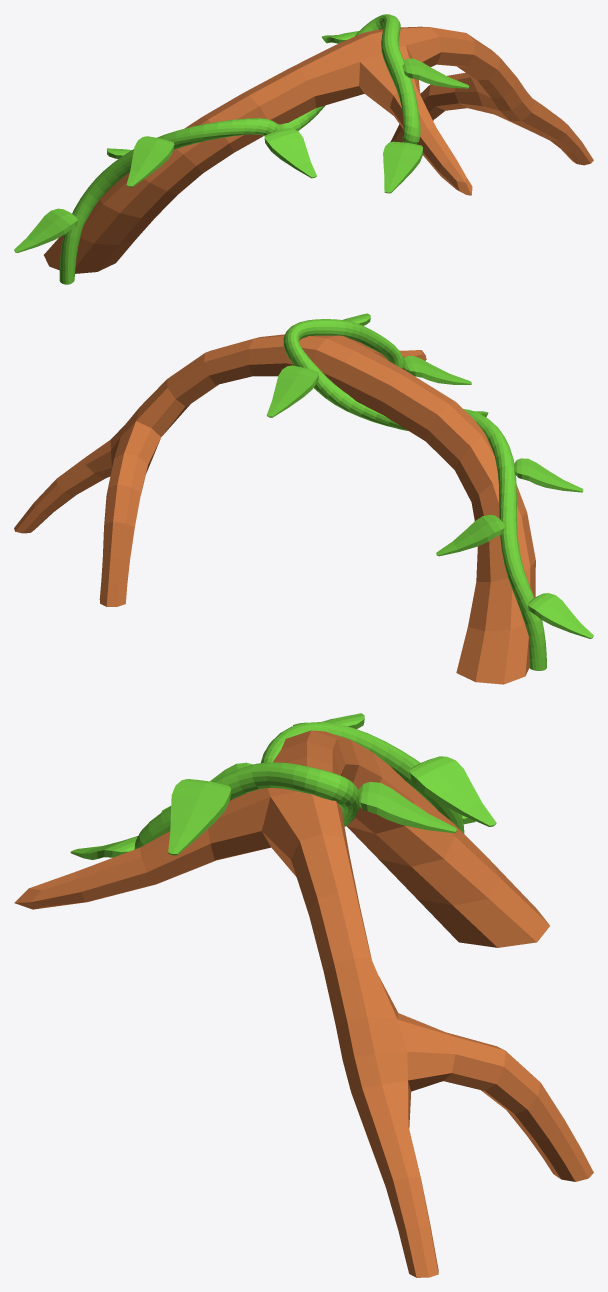
Rendered from wood1.fbx.
3 renders of one model, top to bottom at view 1: azimuth 30°, elevation 25°; view 2: azimuth 150°, elevation 25°; view 3: azimuth 270°, elevation 25°, orthographic. The views are drawn at different scales.
Visible parts, largest first — view 1: Cube, Cube.003, Cube.008, Cube.002, Cube.005, Cube.001, Cube.007; view 2: Cube, Cube.003, Cube.006, Cube.001, Cube.004, Cube.002, Cube.008; view 3: Cube, Cube.003, Cube.007, Cube.004, Cube.006, Cube.008.
Part boxes in pixels (<box>): Cube: <box>44,26,593,273</box>; Cube.003: <box>59,14,420,284</box>; Cube.008: <box>383,141,422,193</box>; Cube.002: <box>126,136,174,187</box>; Cube.005: <box>264,128,316,178</box>; Cube.001: <box>14,208,77,252</box>; Cube.007: <box>402,58,469,88</box>; Cube: <box>14,334,535,684</box>; Cube.003: <box>283,319,546,670</box>; Cube.006: <box>266,365,318,417</box>; Cube.001: <box>527,593,593,638</box>; Cube.004: <box>436,515,504,556</box>; Cube.002: <box>514,458,583,492</box>; Cube.008: <box>403,356,471,384</box>; Cube: <box>14,730,593,1277</box>; Cube.003: <box>134,722,464,849</box>; Cube.007: <box>168,779,231,855</box>; Cube.004: <box>409,756,496,826</box>; Cube.006: <box>358,782,456,833</box>; Cube.008: <box>70,836,137,859</box>.
Size of the model in its own units: 18.57 by 7.23 by 11.09.
